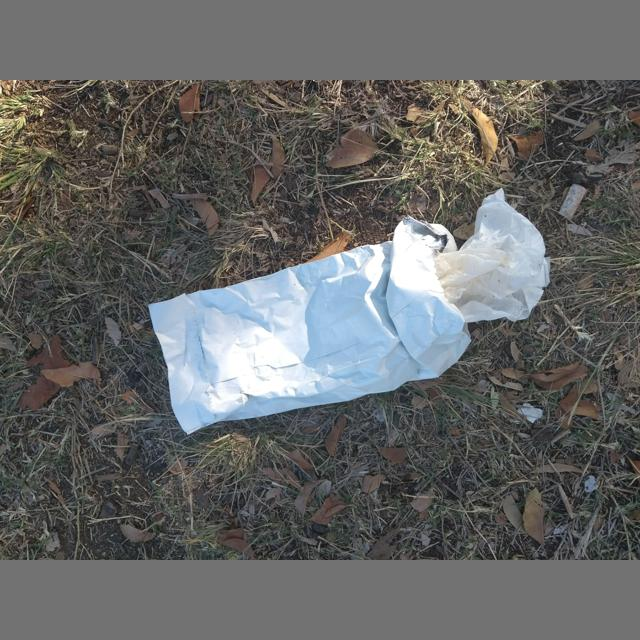litter: (148, 215, 472, 436), (433, 188, 550, 322), (558, 184, 588, 219), (518, 402, 543, 423)
